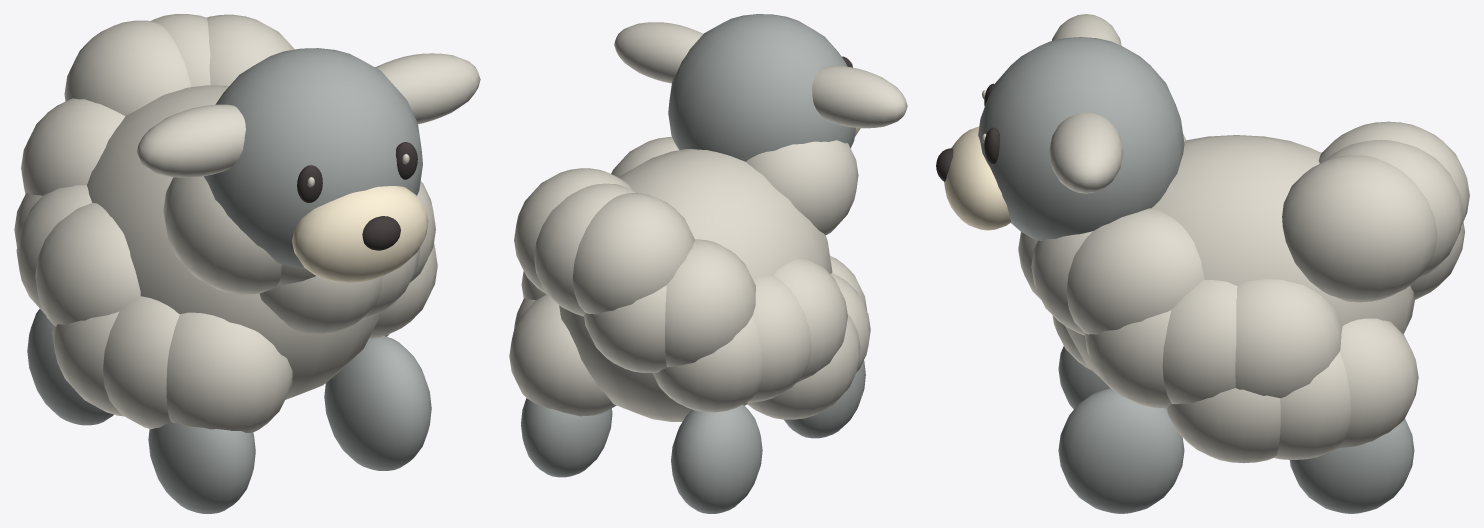
The model's file is sheep.glb.
3 renders of one model, left to right at view 1: azimuth 30°, elevation 25°; view 2: azimuth 150°, elevation 25°; view 3: azimuth 270°, elevation 25°, orthographic. The views are drawn at different scales.
Visible parts, largest first — view 1: Head.010, Body.003, Wool curl.020, Paw.026, Wool curl.017, Muzzle.010, Wool curl.019, Wool curl.007, Paw.024, Wool curl.012, Wool curl.014, Side ear (+14 smaller); view 2: Head.010, Body.003, Wool curl.019, Wool curl.014, Paw.025, Wool curl.016, Wool curl.007, Wool curl.001, Wool curl.009, Wool curl.011, Paw.027, Wool curl.006 (+9 smaller); view 3: Head.010, Body.003, Wool curl.003, Wool curl.018, Paw.026, Wool curl.021, Wool curl.013, Wool curl.016, Paw.027, Wool curl, Wool curl.005, Wool curl.008 (+9 smaller).
Part boxes in pixels (box(x1,y1,x2,y2)): Head.010: box(204, 48, 422, 268); Body.003: box(87, 85, 378, 399); Wool curl.020: box(166, 312, 292, 432); Paw.026: box(324, 336, 431, 470); Wool curl.017: box(35, 203, 140, 326); Muzzle.010: box(292, 186, 428, 282); Wool curl.019: box(64, 20, 191, 115); Wool curl.007: box(163, 176, 281, 294); Paw.024: box(148, 422, 255, 513); Wool curl.012: box(103, 296, 179, 429); Wool curl.014: box(21, 98, 125, 195); Side ear: box(136, 104, 245, 177); Head.010: box(668, 14, 855, 161); Body.003: box(559, 149, 832, 421); Wool curl.019: box(572, 193, 694, 314); Wool curl.014: box(665, 239, 755, 367); Paw.025: box(671, 404, 762, 513); Wool curl.016: box(509, 294, 616, 416); Wool curl.007: box(746, 140, 858, 235); Wool curl.001: box(652, 315, 762, 412); Wool curl.009: box(747, 275, 811, 402); Wool curl.011: box(534, 183, 637, 316); Paw.027: box(521, 398, 612, 477); Wool curl.006: box(584, 285, 666, 372); Head.010: box(978, 37, 1184, 240); Body.003: box(1065, 135, 1414, 376); Wool curl.003: box(1282, 155, 1437, 302); Wool curl.018: box(1066, 208, 1204, 334); Paw.026: box(1058, 388, 1184, 513); Wool curl.021: box(1235, 279, 1342, 398); Wool curl.013: box(1162, 280, 1237, 404); Wool curl.016: box(1337, 318, 1418, 448); Paw.027: box(1289, 419, 1414, 513); Wool curl: box(1166, 388, 1280, 463); Wool curl.005: box(1084, 310, 1171, 408); Wool curl.008: box(1274, 352, 1350, 459).
Size of the model in its own units: 1.04 by 1.26 by 1.44.
